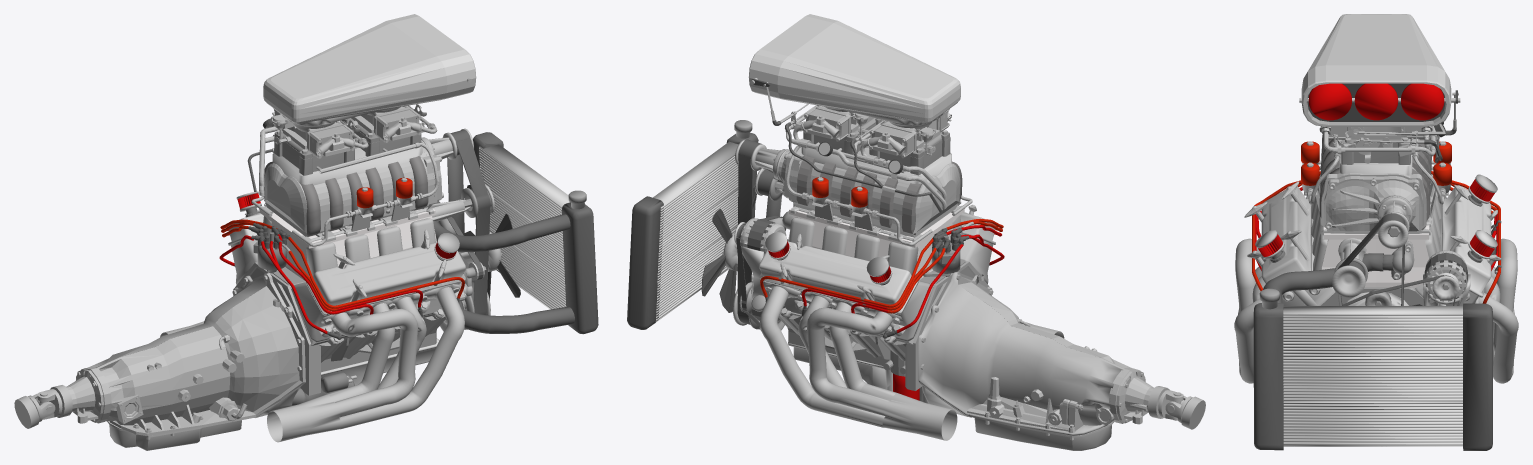
Rendered from V12_Engine.gltf.
3 renders of one model, left to right at view 1: azimuth 30°, elevation 25°; view 2: azimuth 150°, elevation 25°; view 3: azimuth 270°, elevation 25°, orthographic. The views are drawn at different scales.
Visible parts, largest first — view 1: New_Game_Object (×30); view 2: New_Game_Object (×30); view 3: New_Game_Object (×45).
Boxes of the visible parts, <box> form: New_Game_Object (×30): <box>14,14,598,450</box>; New_Game_Object (×30): <box>627,14,1205,450</box>; New_Game_Object (×45): <box>1234,14,1518,450</box>.
Size of the model in its own units: 69.94 by 42.84 by 29.44.
